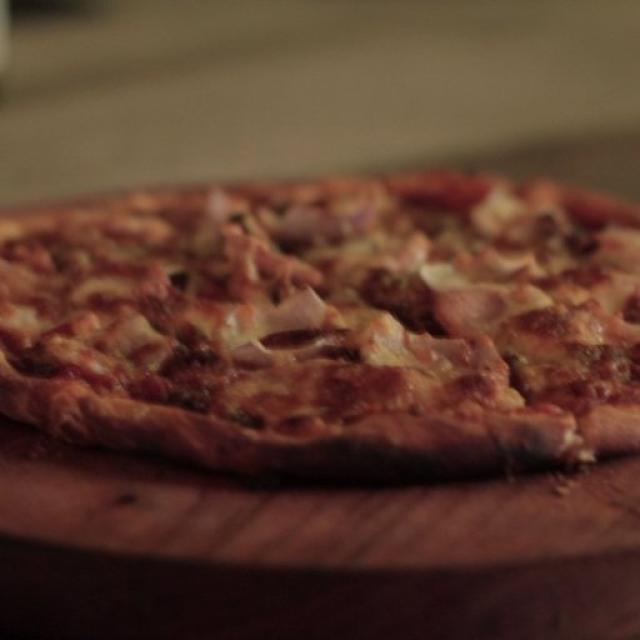Ham: (228, 236, 321, 292), (408, 331, 508, 381), (435, 285, 504, 328), (580, 304, 634, 344), (150, 258, 177, 304), (230, 336, 268, 363)
Pizza: (0, 169, 640, 501)
